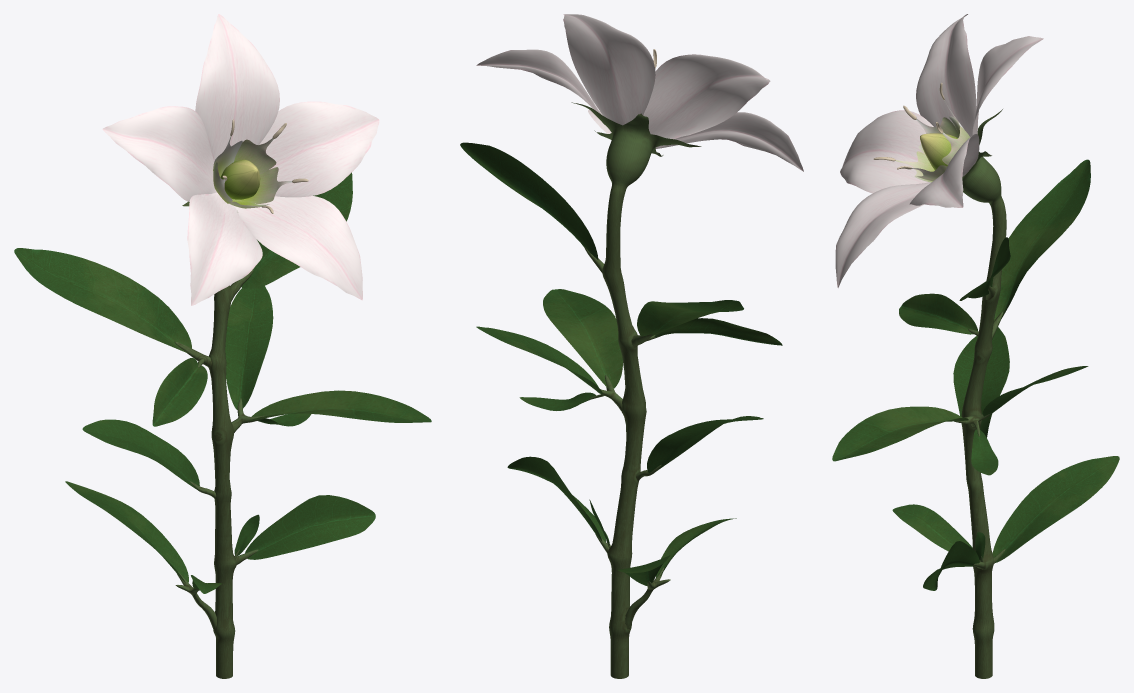
File: ELflowerTexturedFBX2.glb
3 renders of one model, left to right at view 1: azimuth 30°, elevation 25°; view 2: azimuth 150°, elevation 25°; view 3: azimuth 270°, elevation 25°, orthographic. The views are drawn at different scales.
Parts seen in each view (by area): view 1: Petal1_LP, Petal2_LP, Petal5_LP, Leaf2_LP, Stem_LP.001, Petal3_LP, Petal4_LP, Leaf8_LP, Leaf4_LP, Leaf5_LP, Leaf7_LP, Leaf3_LP (+5 smaller); view 2: Stem_LP.001, Petal3_LP, Petal2_LP, Leaf5_LP, Leaf1_LP, Petal4_LP, Petal1_LP, Leaf2_LP, Leaf7_LP, Leaf4_LP, Leaf3_LP, Leaf8_LP (+4 smaller); view 3: Stem_LP.001, Leaf2_LP, Leaf10_LP, Petal4_LP, Petal3_LP, Petal5_LP, Leaf5_LP, Leaf7_LP, Leaf3_LP, Petal1_LP, Petal2_LP, Leaf11_LP (+5 smaller).
Boxes of the visible parts, x1,y1,x2,y2 form: Petal1_LP: [259, 101, 379, 197]; Petal2_LP: [195, 14, 279, 161]; Petal5_LP: [235, 196, 362, 300]; Leaf2_LP: [14, 248, 191, 353]; Stem_LP.001: [182, 201, 237, 678]; Petal3_LP: [102, 106, 216, 201]; Petal4_LP: [187, 192, 262, 305]; Leaf8_LP: [245, 495, 375, 559]; Leaf4_LP: [225, 286, 273, 409]; Leaf5_LP: [249, 390, 431, 422]; Leaf7_LP: [82, 419, 199, 491]; Leaf3_LP: [152, 358, 207, 426]; Stem_LP.001: [571, 102, 701, 678]; Petal3_LP: [643, 54, 770, 139]; Petal2_LP: [563, 14, 655, 125]; Leaf5_LP: [543, 289, 622, 388]; Leaf1_LP: [460, 142, 598, 259]; Petal4_LP: [655, 112, 803, 171]; Petal1_LP: [476, 49, 611, 132]; Leaf2_LP: [637, 300, 743, 336]; Leaf7_LP: [647, 416, 763, 473]; Leaf4_LP: [476, 326, 602, 394]; Leaf3_LP: [654, 318, 782, 345]; Leaf8_LP: [507, 456, 605, 541]; Stem_LP.001: [961, 109, 1006, 678]; Leaf2_LP: [994, 159, 1090, 323]; Leaf10_LP: [992, 456, 1119, 562]; Petal4_LP: [840, 110, 933, 193]; Petal3_LP: [916, 14, 976, 136]; Petal5_LP: [835, 182, 930, 287]; Leaf5_LP: [832, 406, 968, 461]; Leaf7_LP: [953, 327, 1009, 437]; Leaf3_LP: [899, 293, 977, 334]; Petal1_LP: [909, 134, 979, 207]; Petal2_LP: [972, 36, 1043, 134]; Leaf11_LP: [892, 504, 972, 551].
Bounding box in the file's own units: 79.85 × 159 × 63.75.
Materials: 3 (3 with a texture image).
